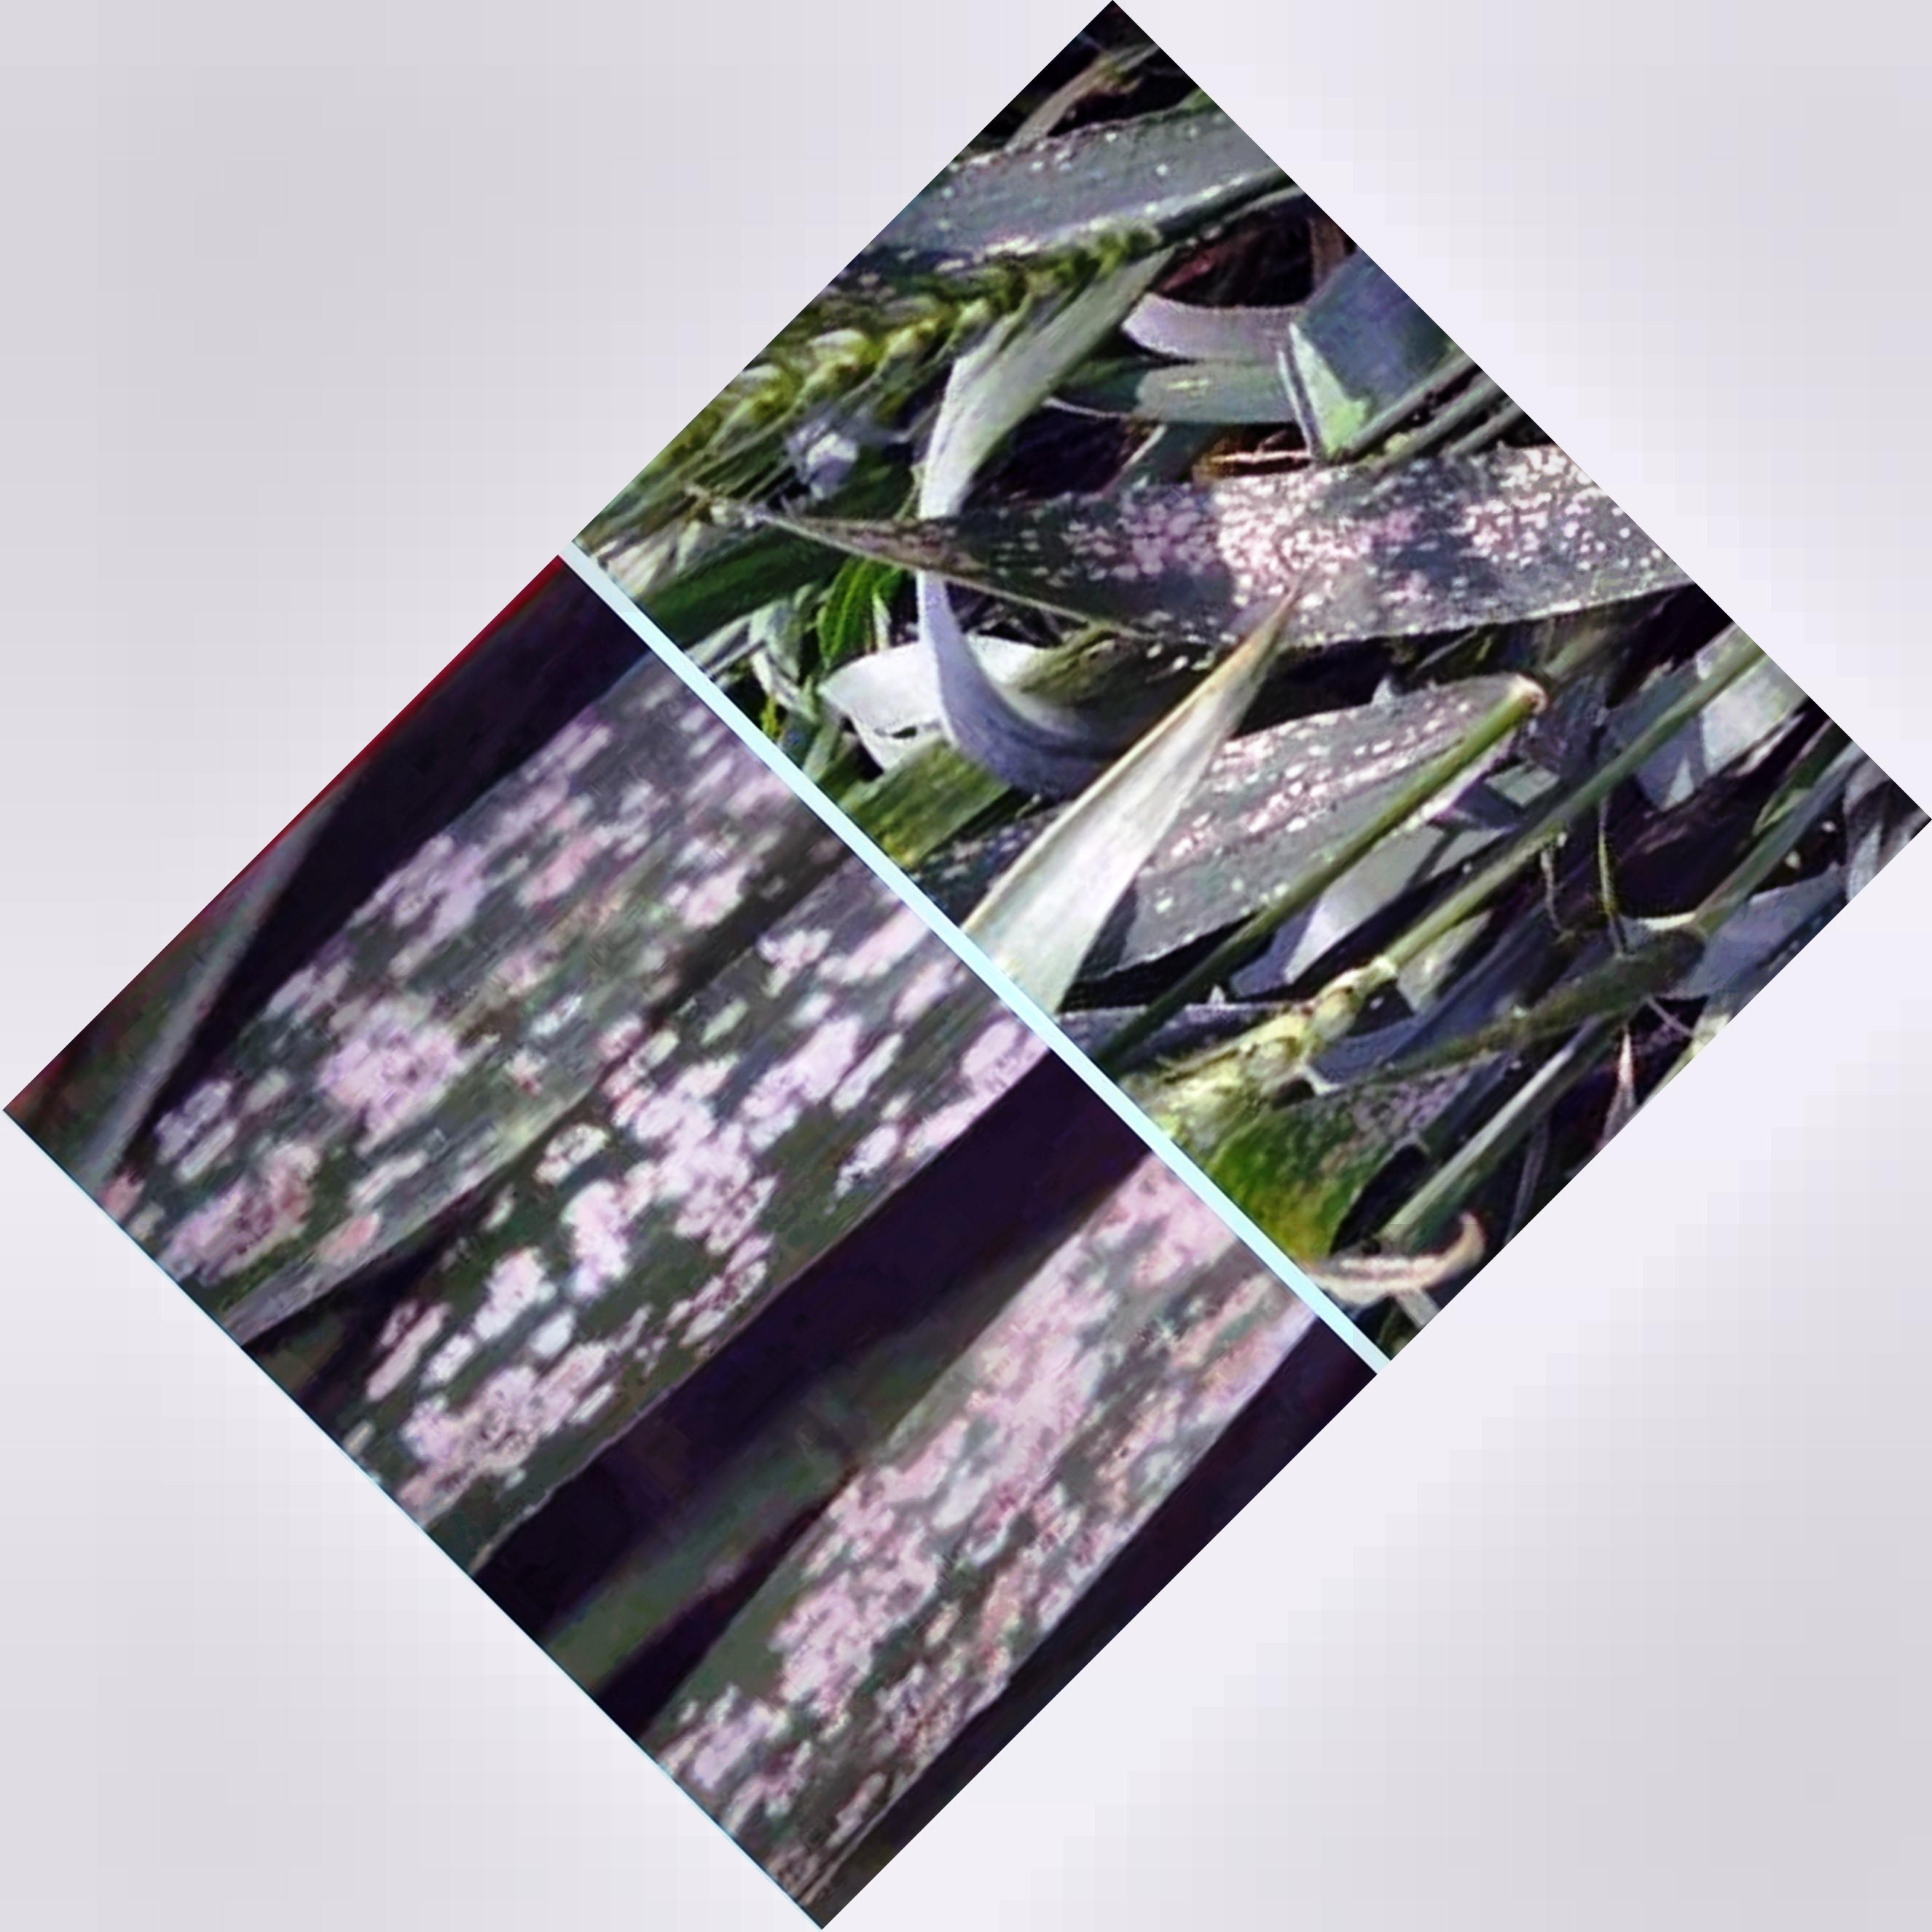Powdery Mildew: (370, 943, 1042, 1527), (1010, 412, 1642, 653)
